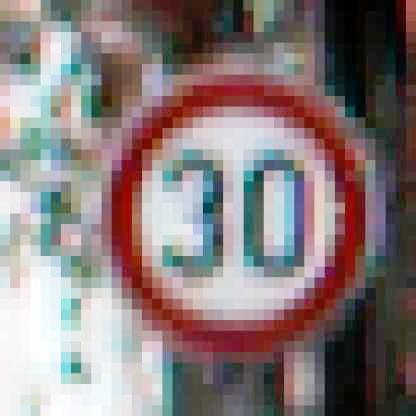Speed Limit -30-: (97, 62, 380, 361)
